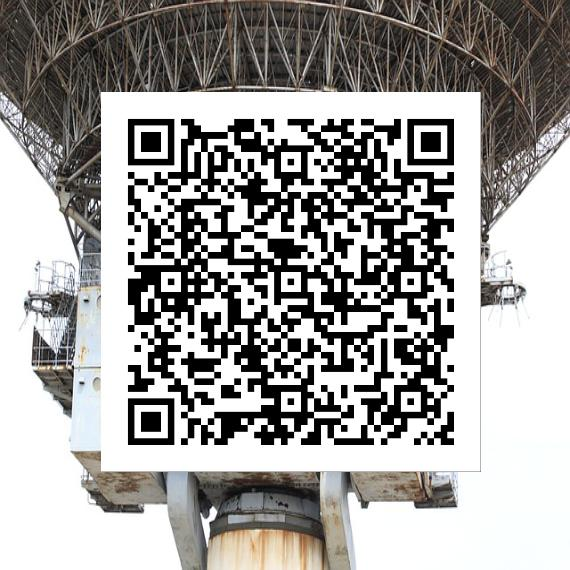qr_code: (101, 92, 480, 471)
